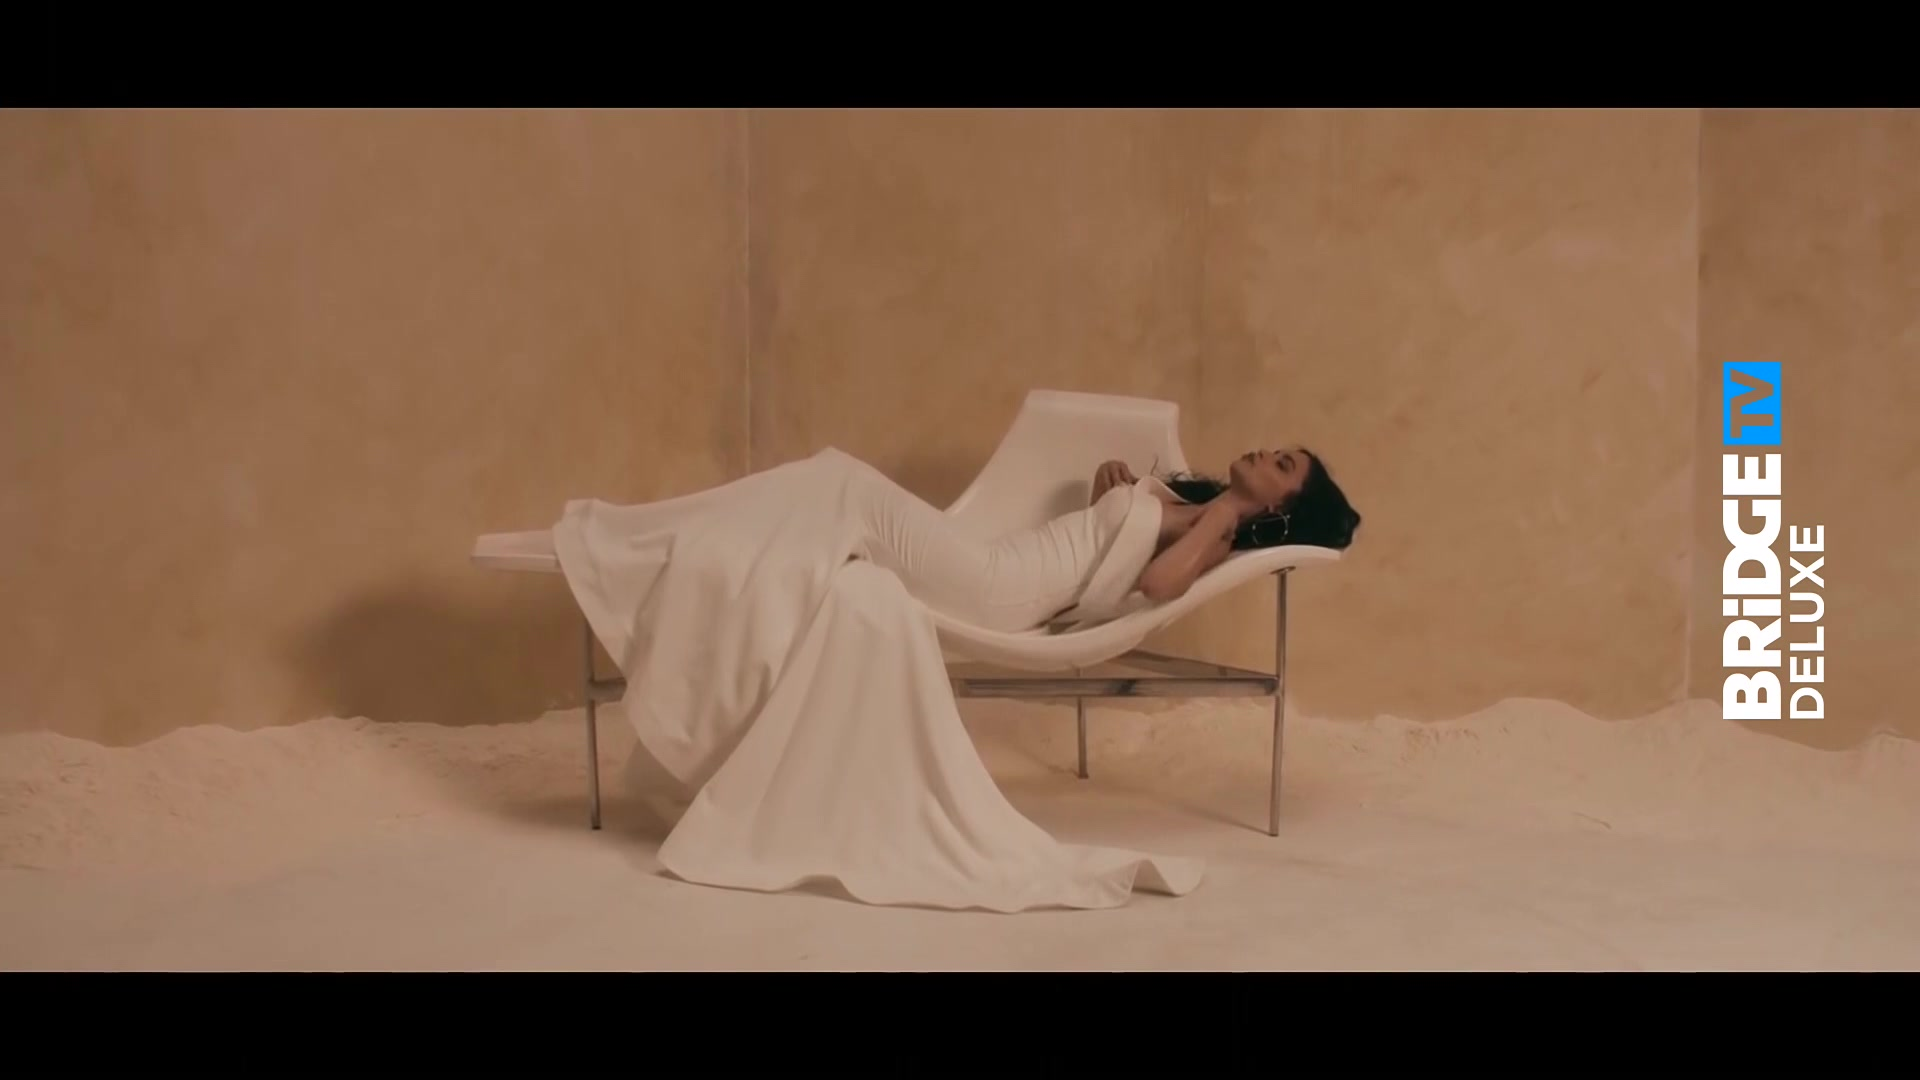Bridge_TV_Deluxe: (1720, 355, 1829, 731)
